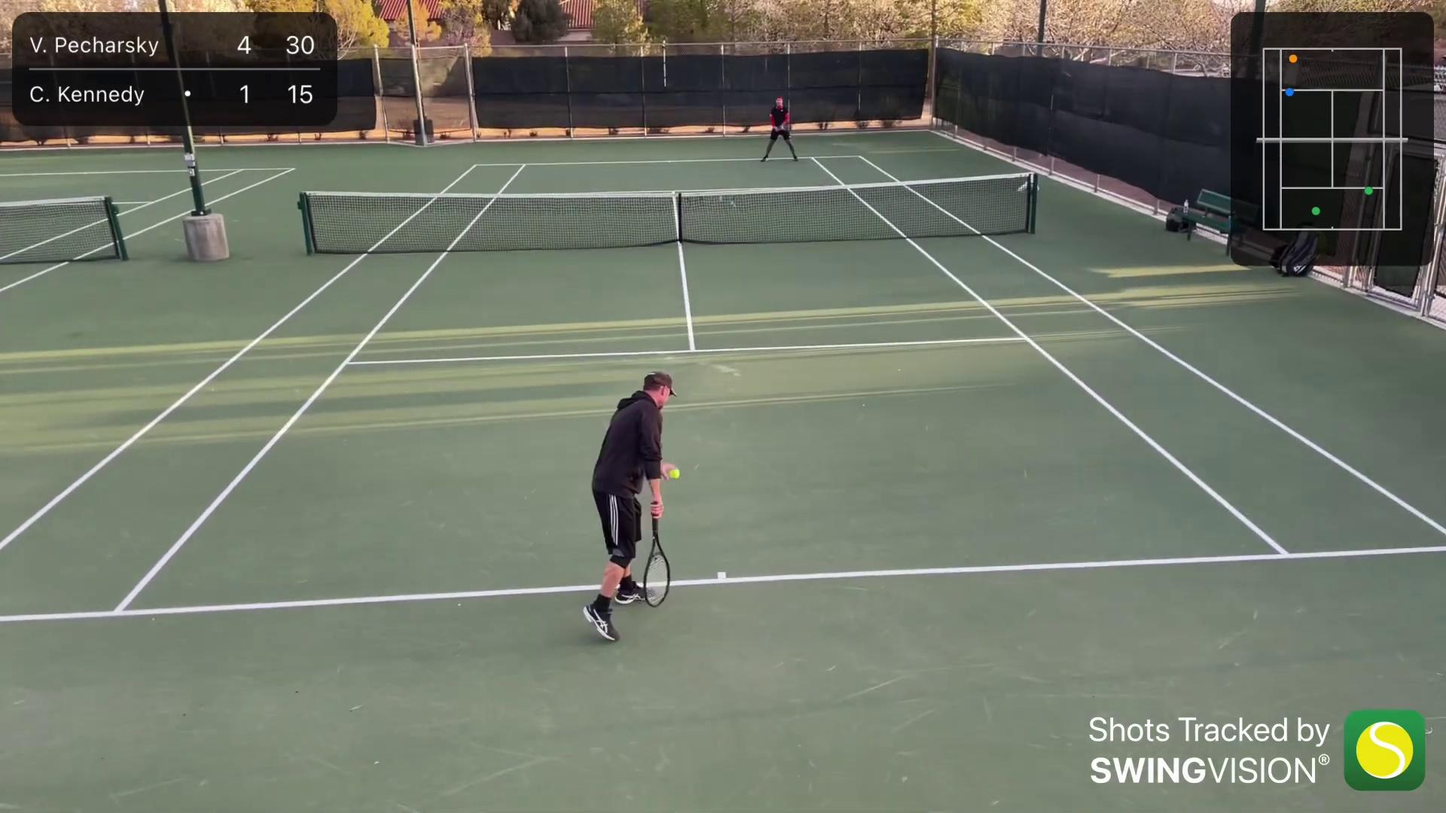ball: (667, 469, 684, 481), (296, 417, 299, 420)
